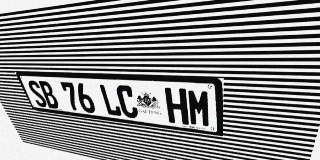6: (73, 83, 97, 114)
7: (59, 82, 83, 112)
B: (37, 81, 61, 109)
C: (115, 85, 139, 119)
H: (164, 88, 189, 125)
L: (98, 84, 123, 117)
M: (187, 89, 211, 128)
S: (26, 80, 49, 108)
